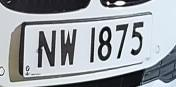1: (84, 21, 97, 69)
5: (129, 15, 146, 62)
7: (112, 17, 130, 63)
8: (97, 21, 114, 64)
N: (34, 27, 57, 72)
W: (58, 25, 78, 70)
